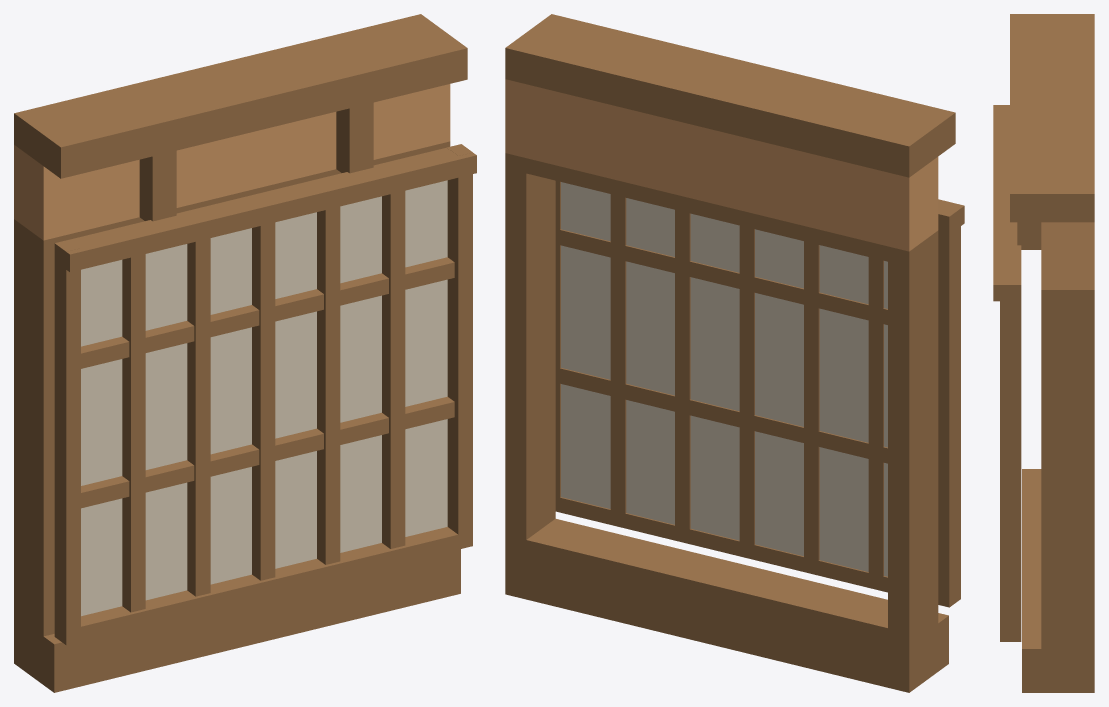
Rendered from Wall_Door.fbx.
3 renders of one model, left to right at view 1: azimuth 30°, elevation 25°; view 2: azimuth 150°, elevation 25°; view 3: azimuth 270°, elevation 25°, orthographic. The views are drawn at different scales.
Parts seen in each view (by area): view 1: Door, Wall_Door; view 2: Wall_Door, Door; view 3: Wall_Door, Door.
Boxes of the visible parts, left/top/right/bottom form: Door: left=54, top=144, right=476, bottom=645; Wall_Door: left=14, top=14, right=467, bottom=692; Wall_Door: left=505, top=14, right=955, bottom=692; Door: left=555, top=181, right=964, bottom=607; Wall_Door: left=1010, top=14, right=1094, bottom=692; Door: left=993, top=105, right=1021, bottom=641.
Bounding box in the file's own units: 400 × 517 × 95.05.
